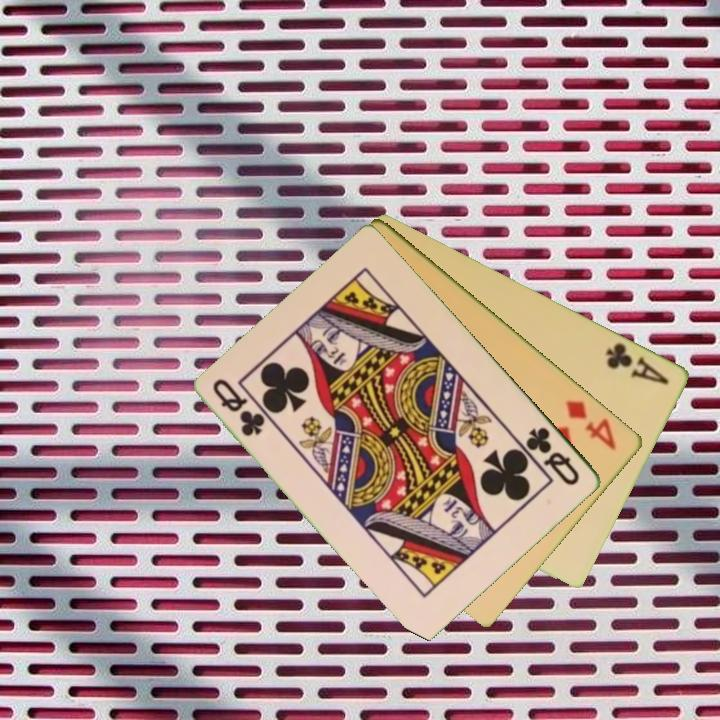4d: (563, 396, 620, 454)
Ac: (603, 338, 673, 388)
Qc: (522, 423, 583, 489), (209, 375, 269, 440)
